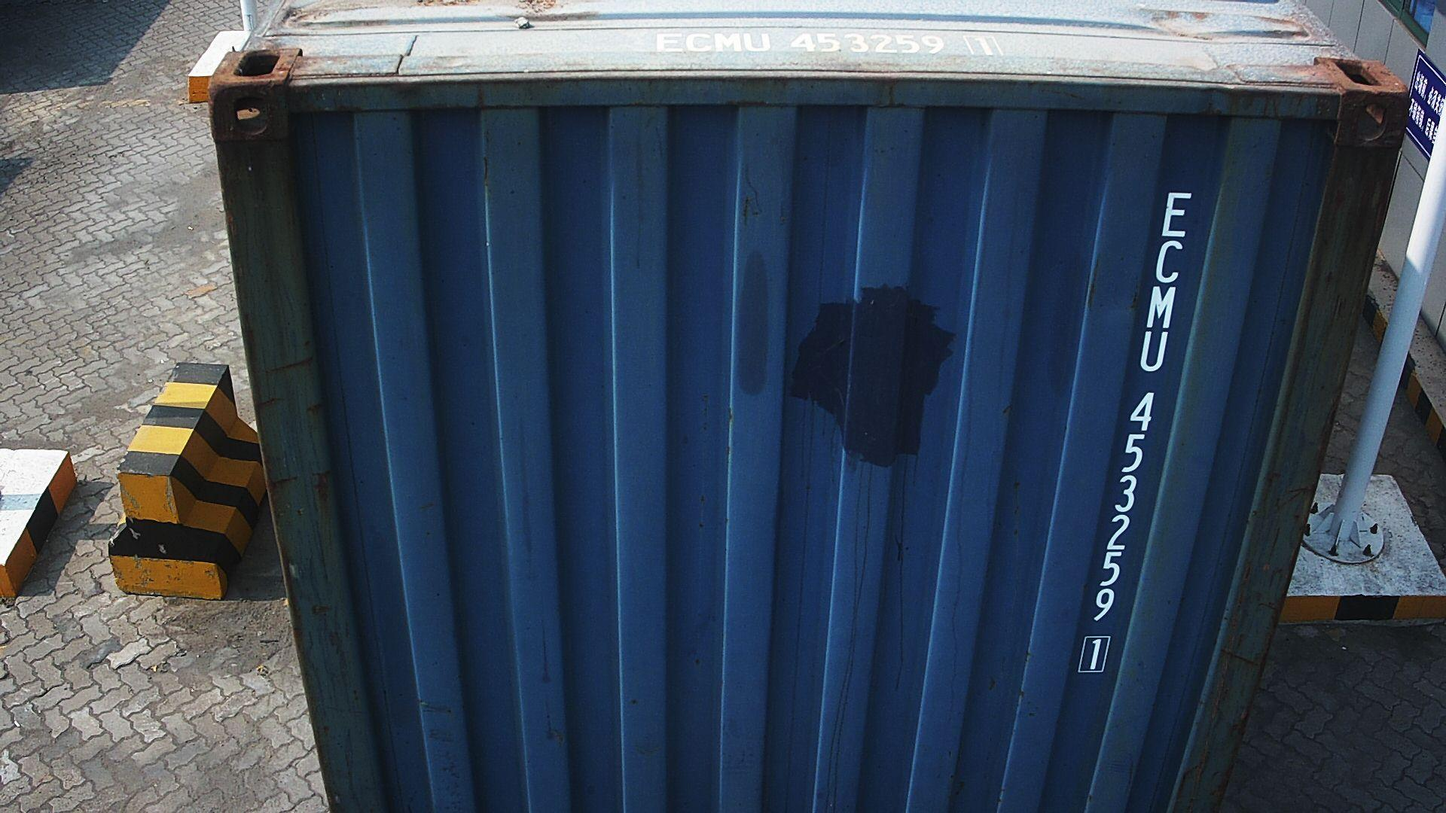container-numbers: (1070, 185, 1193, 679), (646, 28, 1012, 57)
